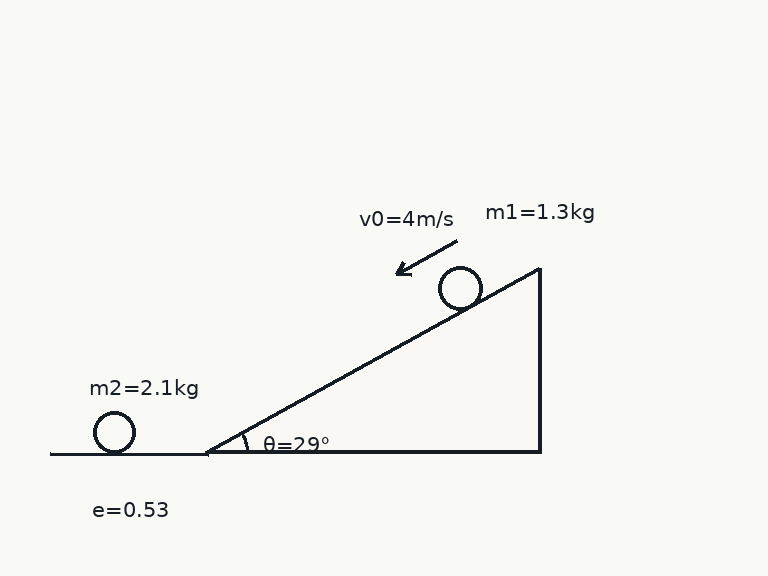ball: (436, 264, 484, 312), (91, 409, 137, 455)
ramp: (205, 267, 541, 455)
